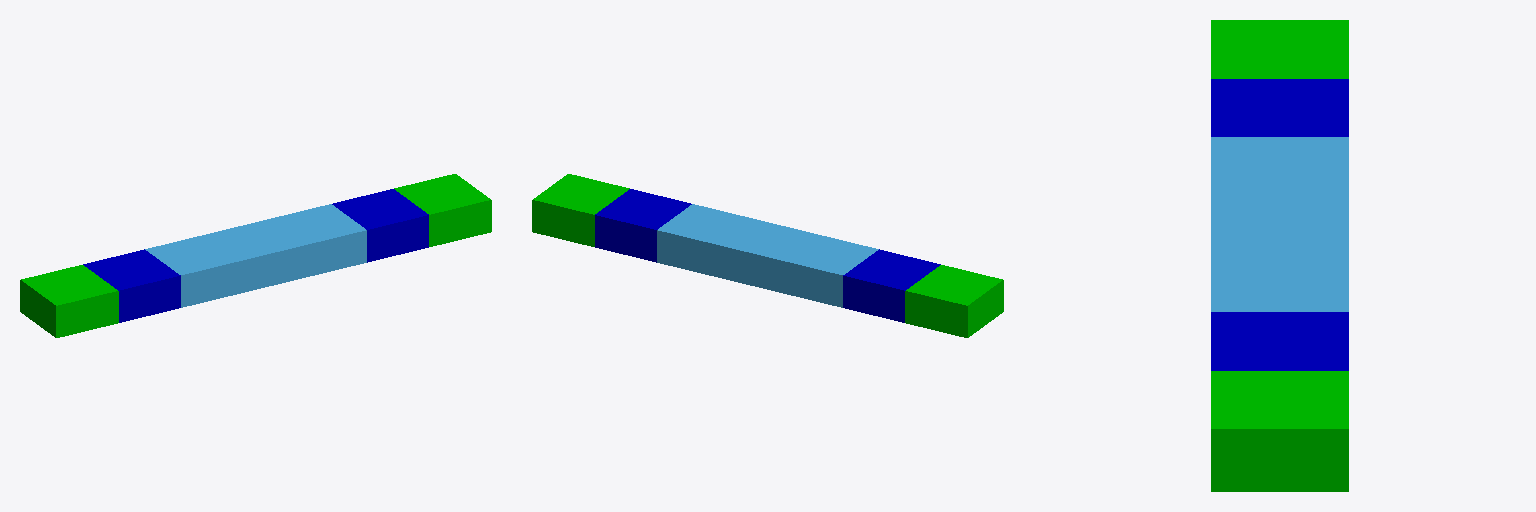
URDF robot description (Chain):
<?xml version="1.0"?>
<robot name="Chain">
  <link name="baselink"/>
  <link name="root">
    <visual>
      <geometry>
        <box size="0.3 .10 0.05"/>
      </geometry>
    </visual>
    <inertial>
      <mass value="10"/>
      <inertia ixx="0.4" ixy="0.0" ixz="0.0" iyy="0.4" iyz="0.0" izz="0.2"/>
    </inertial>
  </link>
  <link name="link1">
    <visual>
      <geometry>
        <box size="0.1 .10 0.05"/>
      </geometry>
      <material name="blue">
        <color rgba="0 0 0.8 1"/>
      </material>
    </visual>
    <inertial>
      <mass value="10"/>
      <inertia ixx="0.4" ixy="0.0" ixz="0.0" iyy="0.4" iyz="0.0" izz="0.2"/>
    </inertial>
  </link>
  <link name="link2">
    <visual>
      <geometry>
        <box size="0.1 .10 0.05"/>
      </geometry>
      <material name="blue">
        <color rgba="0 0 0.8 1"/>
      </material>
    </visual>
    <inertial>
      <mass value="10"/>
      <inertia ixx="0.4" ixy="0.0" ixz="0.0" iyy="0.4" iyz="0.0" izz="0.2"/>
    </inertial>
  </link>
  <link name="link3">
    <visual>
      <geometry>
        <box size="0.1 .10 0.05"/>
      </geometry>
      <material name="green">
        <color rgba="0 0.8 0 1"/>
      </material>
    </visual>
    <inertial>
      <mass value="10"/>
      <inertia ixx="0.4" ixy="0.0" ixz="0.0" iyy="0.4" iyz="0.0" izz="0.2"/>
    </inertial>
  </link>
  <link name="link4">
    <visual>
      <geometry>
        <box size="0.1 .10 0.05"/>
      </geometry>
      <material name="green">
        <color rgba="0 0.8 0 1"/>
      </material>
    </visual>
    <inertial>
      <mass value="10"/>
      <inertia ixx="0.4" ixy="0.0" ixz="0.0" iyy="0.4" iyz="0.0" izz="0.2"/>
    </inertial>
  </link>
  <!-- Joints -->
  <joint name="basetoroot" type="fixed">
    <parent link="baselink"/>
    <child link="root"/>
    <origin rpy="0 0 0" xyz="0 0 0"/>
  </joint>
  <joint name="roottolink1" type="revolute">
    <parent link="root"/>
    <child link="link1"/>
    <origin rpy="0 0 0" xyz="0.2 0.0 0"/>
    <axis xyz="0 -1 0"/>
		<limit effort="30" velocity="1.0" lower="-2.2" upper="0.7" />
  </joint>
  <joint name="roottolink2" type="revolute">
    <parent link="root"/>
    <child link="link2"/>
    <origin rpy="0 0 0" xyz="-0.2 0.0 0"/>
    <axis xyz="0 -1 0"/>
		<limit effort="30" velocity="1.0" lower="-2.2" upper="0.7" />
  </joint>
 <joint name="link1tolink3" type="revolute">
    <parent link="link1"/>
    <child link="link3"/>
    <origin rpy="0 0 0" xyz="0.1 0.0 0"/>
    <axis xyz="0 -1 0"/>
		<limit effort="30" velocity="1.0" lower="-2.2" upper="0.7" />
  </joint>
 <joint name="link2tolink4" type="revolute">
    <parent link="link2"/>
    <child link="link4"/>
    <origin rpy="0 0 0" xyz="-0.1 0.0 0"/>
    <axis xyz="0 -1 0"/>
		<limit effort="30" velocity="1.0" lower="-2.2" upper="0.7" />
  </joint>
</robot>

--- Facts derived from the render (not from the file) ---
Views: 3 orthographic renders of the robot side by side, from view 1: azimuth 30°, elevation 25°; view 2: azimuth 150°, elevation 25°; view 3: azimuth 270°, elevation 25°.
Robot: Chain — 6 links, 5 joints (4 revolute, 1 fixed); root link baselink; default pose: all joints at 0.
Links seen in each view (by area): view 1: root, link4, link3, link1, link2; view 2: root, link4, link3, link1, link2; view 3: root, link3, link1, link4, link2.
Link boxes in pixels (left/top/right/bottom): root: left=145, top=204, right=366, bottom=307; link4: left=20, top=265, right=118, bottom=337; link3: left=394, top=174, right=491, bottom=246; link1: left=332, top=189, right=428, bottom=262; link2: left=83, top=249, right=180, bottom=322; root: left=657, top=204, right=878, bottom=307; link4: left=905, top=265, right=1003, bottom=337; link3: left=532, top=174, right=629, bottom=246; link1: left=595, top=189, right=691, bottom=262; link2: left=843, top=249, right=940, bottom=322; root: left=1211, top=137, right=1348, bottom=311; link3: left=1211, top=371, right=1348, bottom=491; link1: left=1211, top=312, right=1348, bottom=370; link4: left=1211, top=20, right=1348, bottom=78; link2: left=1211, top=79, right=1348, bottom=136.
Size in the robot's own frame: 0.7 by 0.1 by 0.05 metres.
Geometry: primitives only (box / cylinder / sphere), no mesh files.